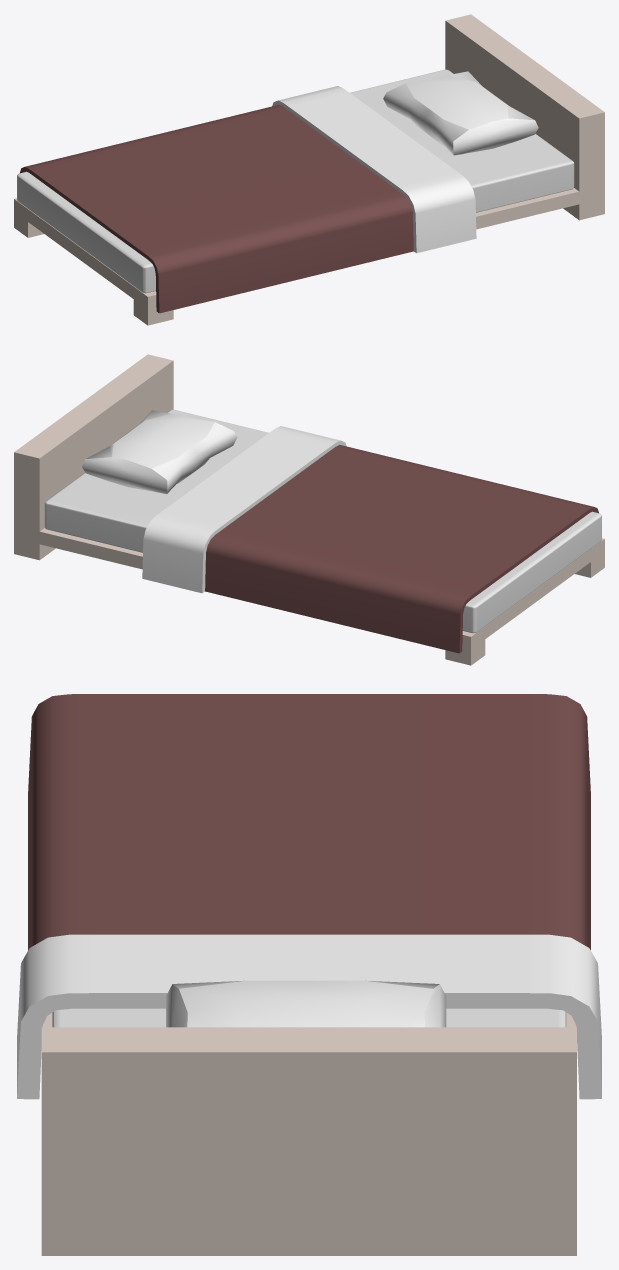
Rendered from fbx_bed_2.fbx.
The picture shows the model from 3 angles, top to bottom: view 1: azimuth 30°, elevation 25°; view 2: azimuth 150°, elevation 25°; view 3: azimuth 270°, elevation 25°; orthographic projection. The views are drawn at different scales.
Visible parts, largest first — view 1: fbx_bed_2; view 2: fbx_bed_2; view 3: fbx_bed_2.
Part boxes in pixels (left/top/right/bottom): fbx_bed_2: left=14, top=14, right=604, bottom=325; fbx_bed_2: left=14, top=354, right=604, bottom=665; fbx_bed_2: left=17, top=694, right=601, bottom=1255.
Size of the model in its own units: 3.73 by 0.792 by 2.06.
1 material, 1 textured.
